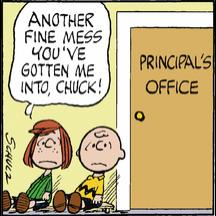charlie: (54, 125, 128, 216)
